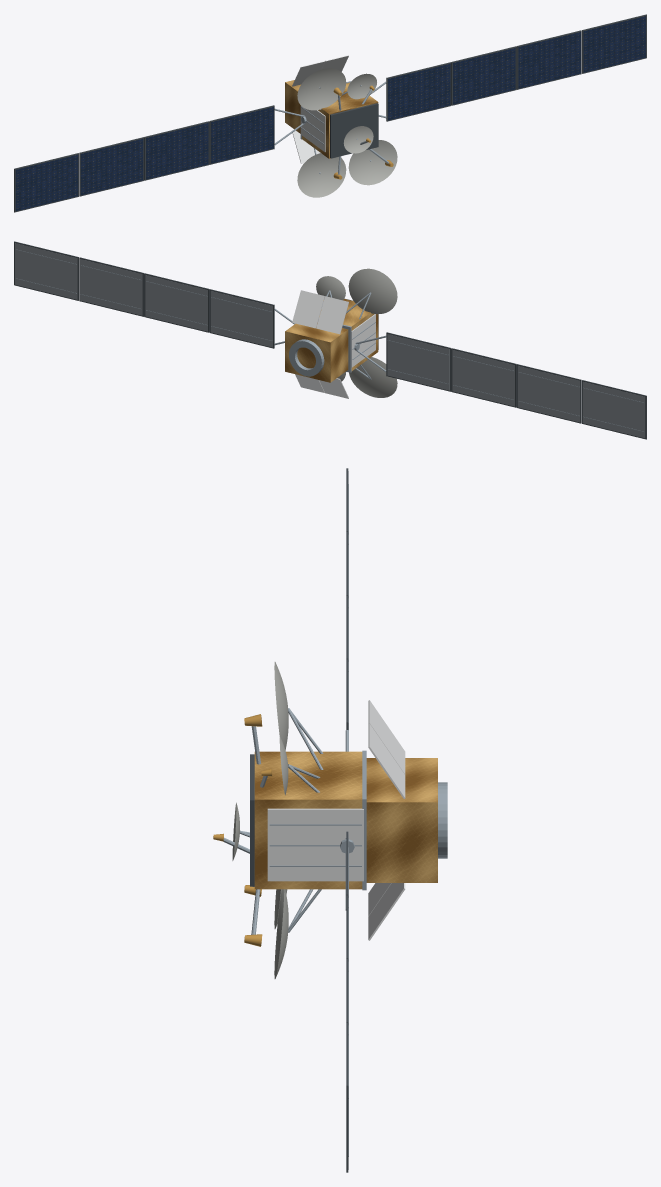
The model's file is ref-eurostar-3000ls-41029.glb.
3 renders of one model, top to bottom at view 1: azimuth 30°, elevation 25°; view 2: azimuth 150°, elevation 25°; view 3: azimuth 270°, elevation 25°, orthographic. The views are drawn at different scales.
Visible parts, largest first — view 1: Solar cell panel (×8), Communications reflector (×4), Solar panel frame (×8), Earth-facing deck, Payload module, Radiator face, Deployed radiator leaf (×2), Service module, Deck-mounted reflector; view 2: Rear array substrate (×8), Communications reflector (×3), Solar panel frame (×8), Service module, Deployed radiator leaf (×4), Radiator face, Launch adapter ring, Payload module; view 3: Service module, Payload module, Radiator face, Deployed radiator leaf.
Boxes of the visible parts, x1,y1,x2,y2 form: Solar cell panel (×8): [15, 16, 645, 211]; Communications reflector (×4): [297, 68, 397, 197]; Solar panel frame (×8): [14, 14, 646, 212]; Earth-facing deck: [330, 103, 378, 158]; Payload module: [302, 82, 378, 158]; Radiator face: [300, 105, 325, 151]; Deployed radiator leaf (×2): [292, 61, 324, 163]; Service module: [285, 80, 300, 133]; Deck-mounted reflector: [343, 126, 373, 153]; Rear array substrate (×8): [15, 243, 645, 438]; Communications reflector (×3): [316, 268, 397, 397]; Solar panel frame (×8): [14, 241, 646, 439]; Service module: [285, 323, 348, 382]; Deployed radiator leaf (×4): [292, 290, 348, 398]; Radiator face: [351, 314, 375, 367]; Launch adapter ring: [289, 339, 324, 376]; Payload module: [319, 299, 378, 370]; Service module: [366, 758, 437, 882]; Payload module: [254, 751, 362, 889]; Radiator face: [267, 808, 363, 881]; Deployed radiator leaf: [368, 723, 405, 798].
Bounding box in the file's own units: 30.77 × 5.94 × 4.94.
8 materials, 2 textured.
